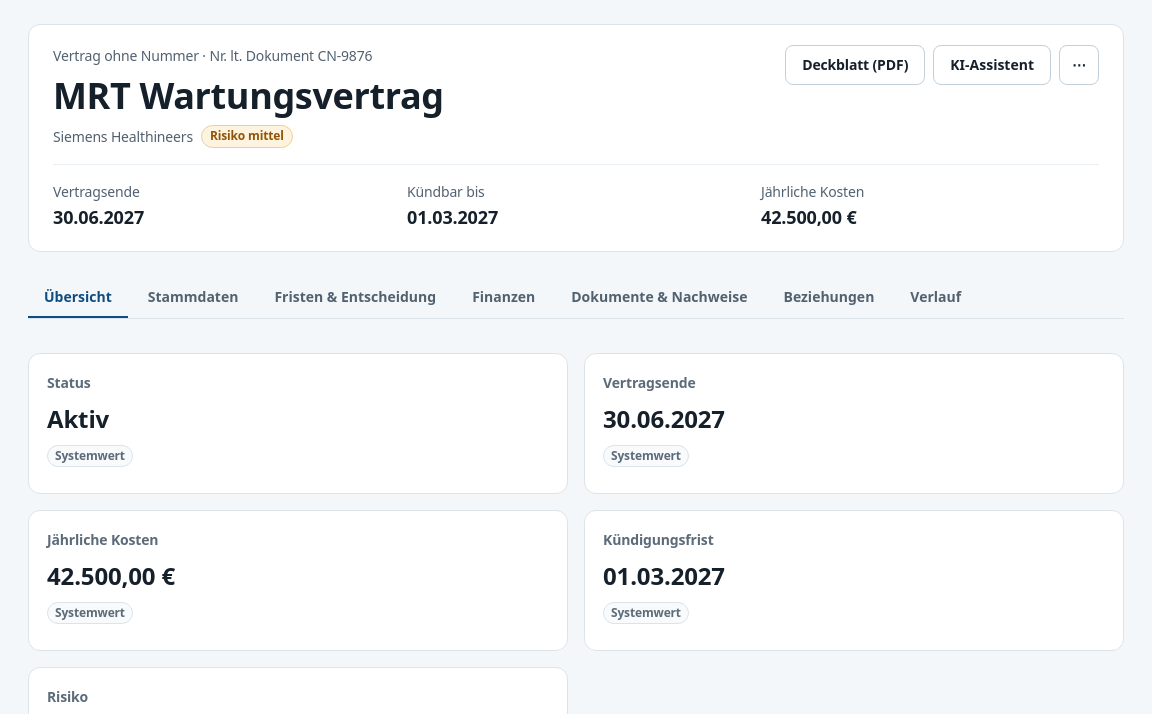
Scenario: Vertrags-Detail + Quellenanzeige (tabbed Contract Workspace) › markiert eine ausgewählte Quelle und öffnet das Original im PDF-Viewer
Expected: the heading "MRT Wartungsvertrag" is shown, [53, 71, 444, 120]
Click the tab "Dokumente & Nachweise". click: (659, 298)
box: [555, 278, 764, 318]
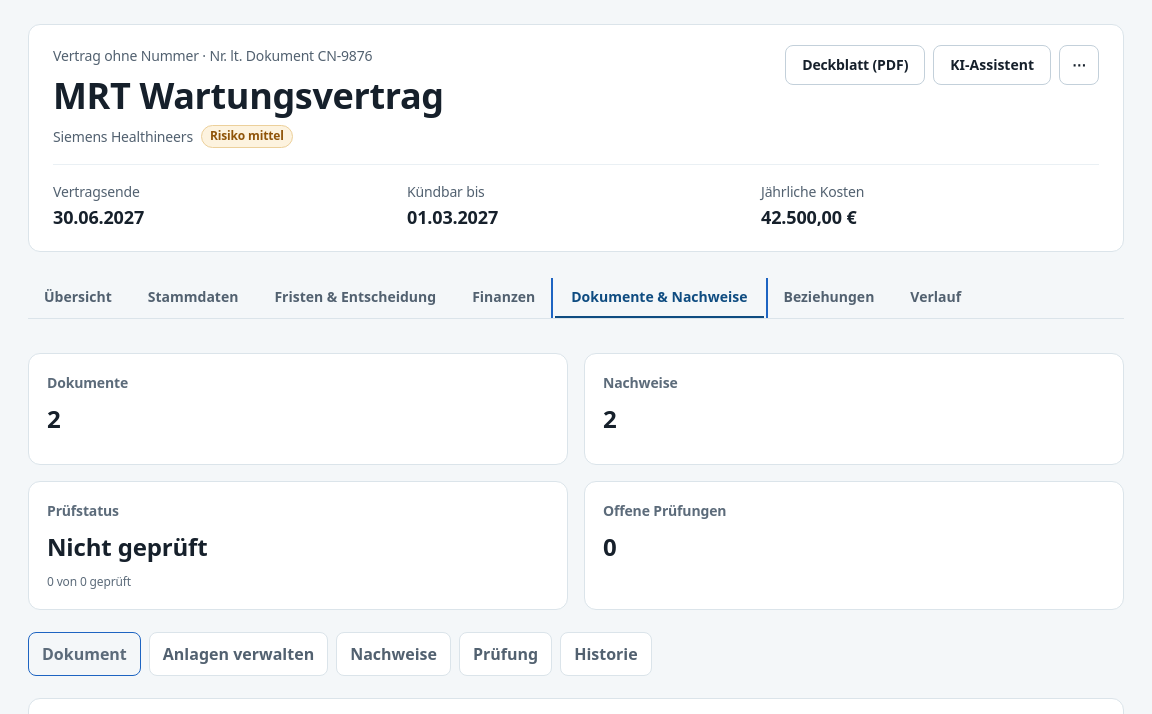
Click the button "Nachweise". click: (394, 654)
box: [336, 632, 451, 676]
(page scrolled)
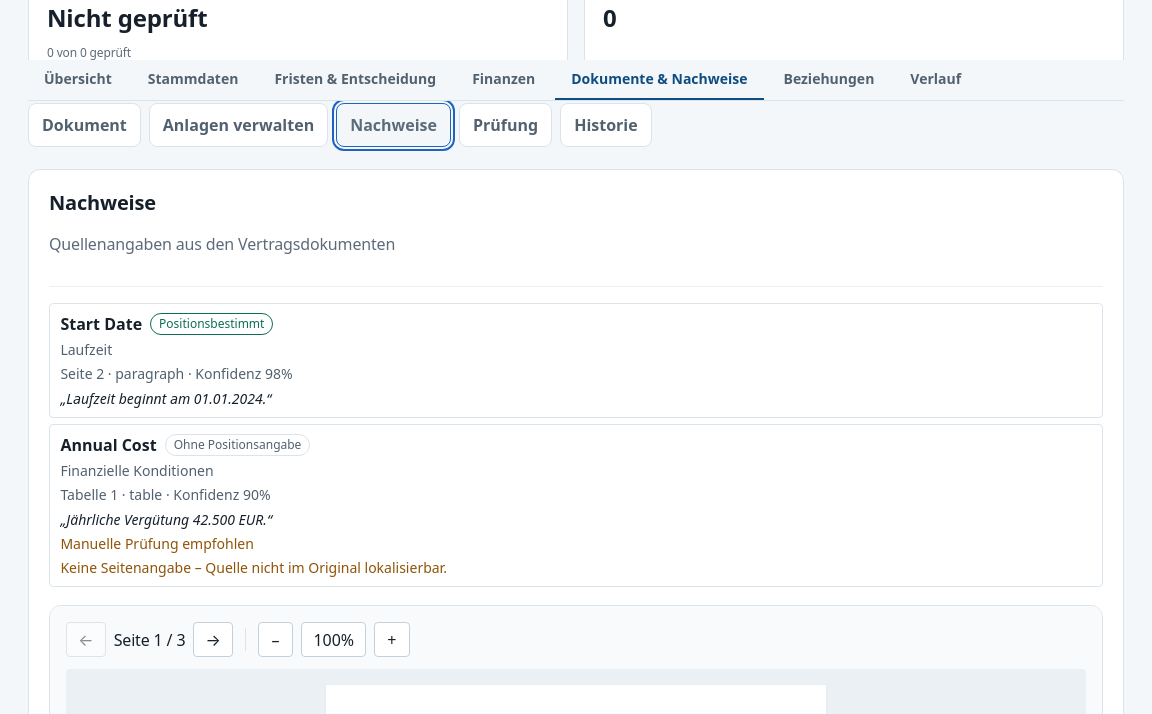
Click the button "start date". click: (101, 324)
box: [49, 303, 1103, 418]
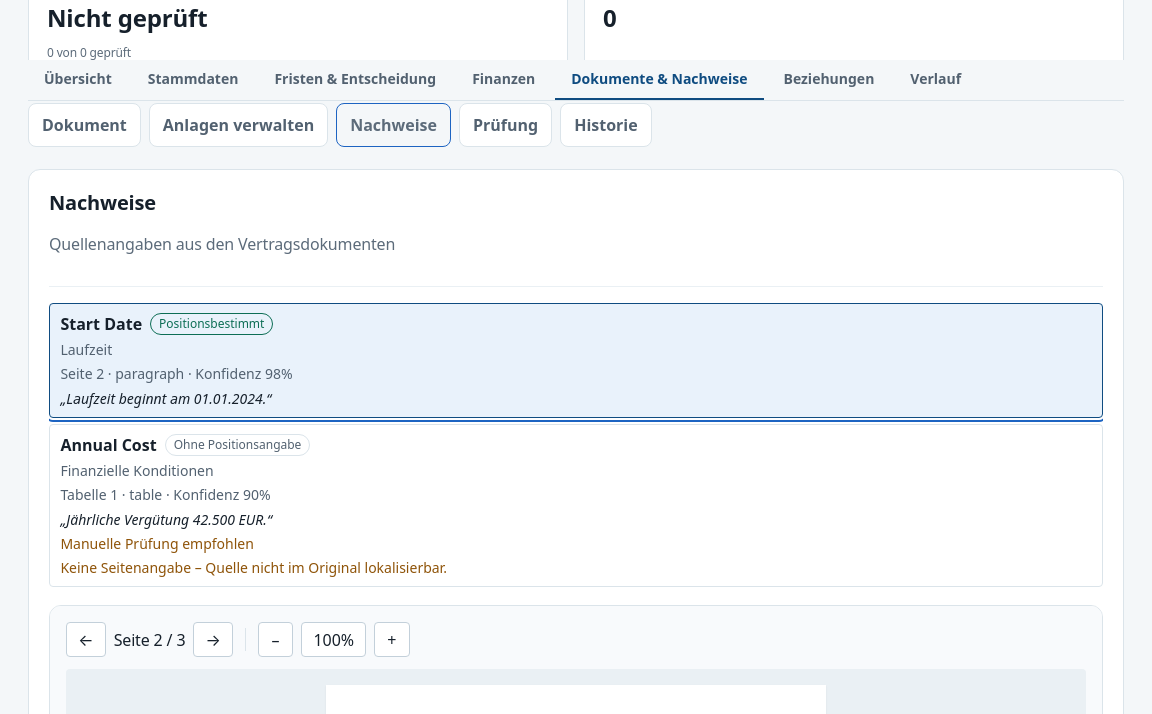
Expected: the element named "PDF-Ansicht steuern" is shown, [66, 622, 410, 658]
Expected: the text "Seite 2 / 3" is shown, [114, 628, 185, 652]
